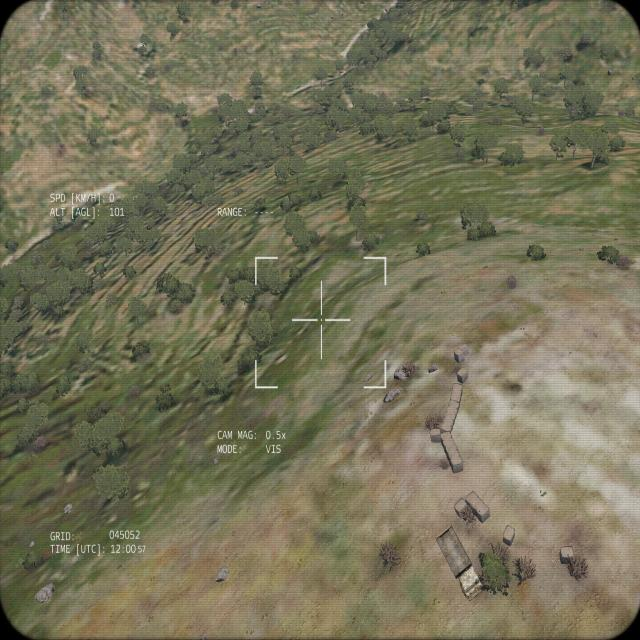truck: (433, 524, 483, 600)
